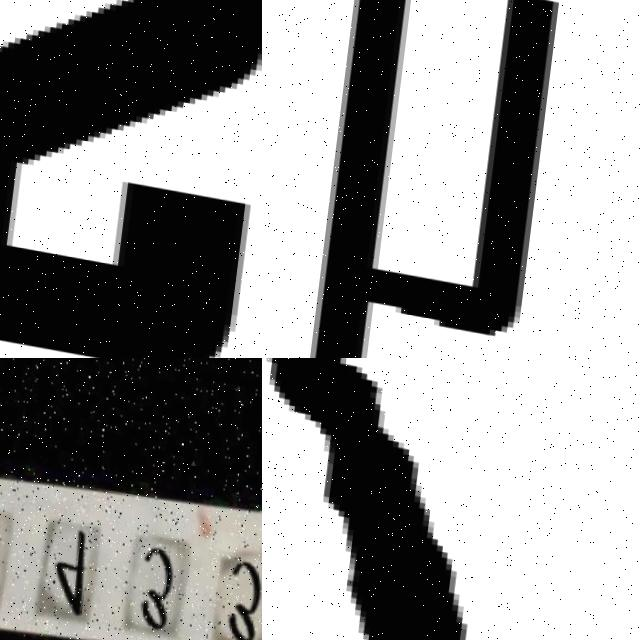3: (99, 519, 208, 640), (185, 532, 262, 640), (0, 495, 28, 620)
4: (8, 501, 122, 637)
7: (262, 358, 640, 640)
H: (278, 0, 564, 358)
S: (0, 0, 262, 358)
